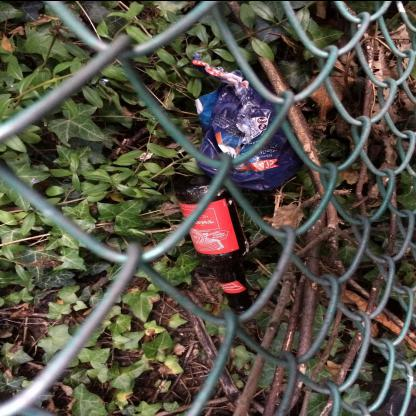cam: (176, 185, 260, 315)
plastik: (193, 59, 303, 191)
